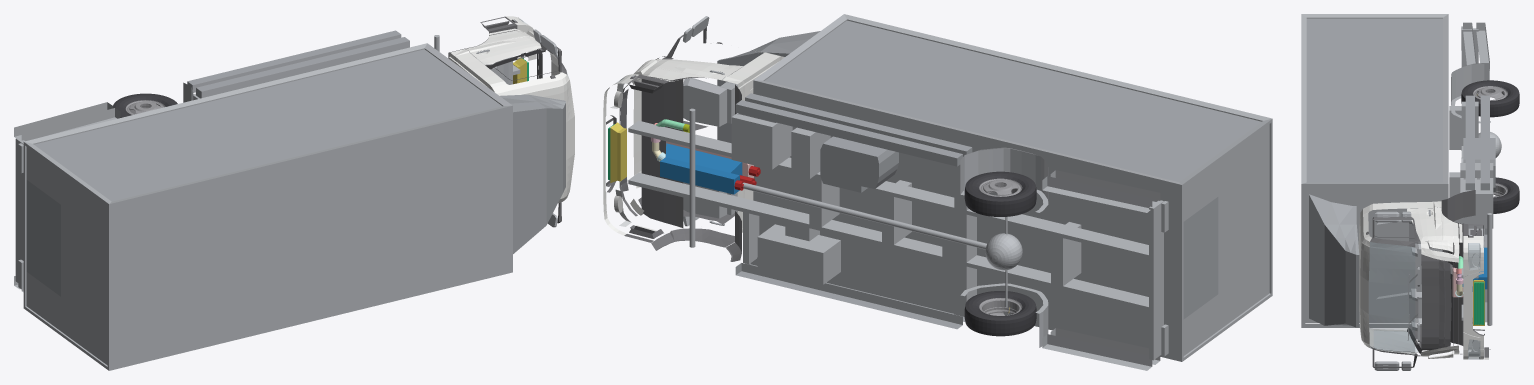
The model's file is chassis.glb.
3 views of the same model, side by side, from view 1: azimuth 30°, elevation 25°; view 2: azimuth 150°, elevation 25°; view 3: azimuth 270°, elevation 25° (orthographic). The views are drawn at different scales.
Parts seen in each view (by area): view 1: chassis_0, chassis_1, chassis_4, chassis_21, chassis_8, chassis_37, chassis_3, chassis_41, chassis_39, chassis_9, chassis_42; view 2: chassis_0, chassis_1, chassis_37, chassis_4, chassis_9, chassis_41, chassis_39, chassis_8, chassis_40, chassis_3, chassis_38, chassis_22 (+7 smaller); view 3: chassis_1, chassis_0, chassis_21, chassis_8, chassis_9, chassis_37, chassis_18, chassis_41, chassis_22, chassis_42, chassis_23, chassis_46 (+7 smaller).
Part boxes in pixels (x1,y1,x2,y2): chassis_0: (23,43,512,370); chassis_1: (34,49,501,201); chassis_4: (26,147,107,365); chassis_21: (500,94,565,253); chassis_8: (449,16,574,202); chassis_37: (14,35,520,292); chassis_3: (26,180,60,296); chassis_41: (187,30,409,98); chassis_39: (192,34,409,97); chassis_9: (448,16,566,223); chassis_42: (113,93,177,117); chassis_0: (753,14,1272,361); chassis_1: (764,20,1261,182); chassis_37: (628,108,1163,370); chassis_4: (1183,124,1269,355); chassis_9: (606,27,754,261); chassis_41: (735,93,972,329); chassis_39: (741,170,1160,366); chassis_8: (603,43,784,235); chassis_40: (757,224,840,284); chassis_3: (1183,197,1218,319); chassis_38: (820,136,898,192); chassis_22: (683,76,738,218); chassis_1: (1306,18,1442,182); chassis_0: (1301,14,1448,327); chassis_21: (1309,194,1359,327); chassis_8: (1358,201,1488,359); chassis_9: (1366,190,1490,367); chassis_37: (1449,22,1501,325); chassis_18: (1369,242,1418,354); chassis_41: (1465,95,1489,322); chassis_22: (1374,220,1442,331); chassis_42: (1461,80,1519,117); chassis_23: (1390,221,1426,330); chassis_46: (1493,177,1519,213).
Bounding box in the file's own units: 7.98 × 2.69 × 3.35.
